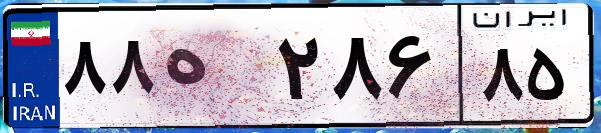2: (270, 28, 330, 110)
5: (525, 38, 570, 115)
6: (385, 28, 445, 110)
8: (330, 28, 385, 110), (57, 26, 110, 100), (475, 38, 525, 113), (110, 28, 158, 98)
ه: (158, 20, 270, 120)
